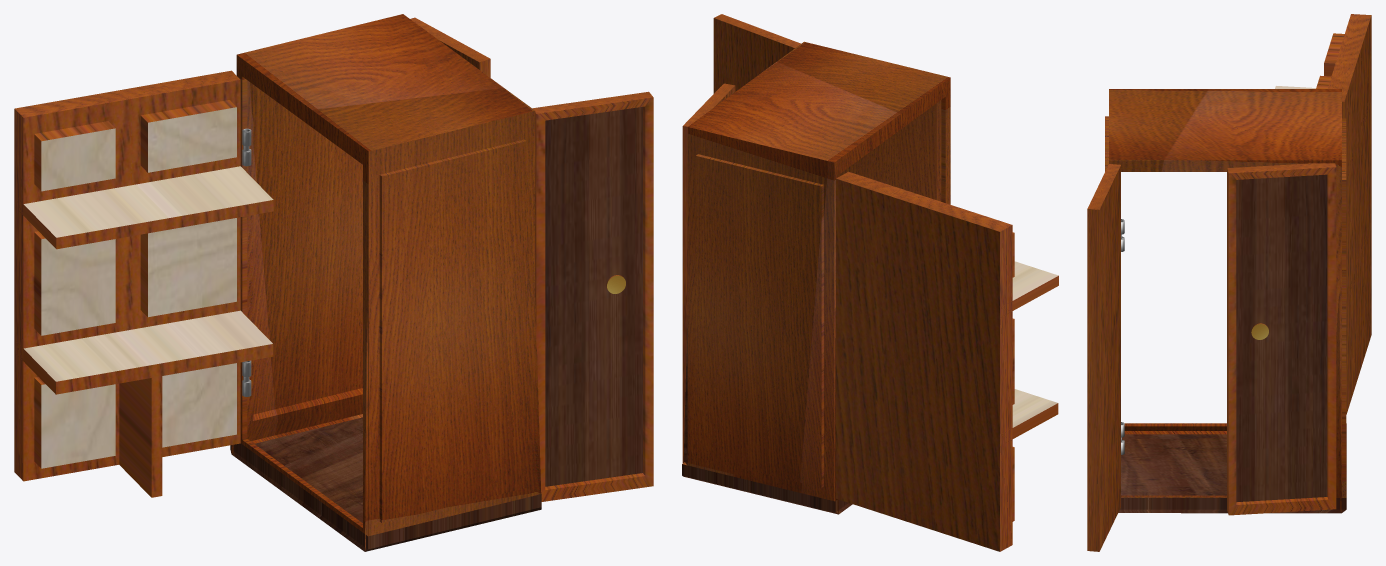
Rendered from Armario_Fundo_Falso.fbx.
3 views of the same model, side by side, from view 1: azimuth 30°, elevation 25°; view 2: azimuth 150°, elevation 25°; view 3: azimuth 270°, elevation 25° (orthographic). The views are drawn at different scales.
Parts seen in each view (by area): view 1: Cube, Cube.001, Cone.001, Cone.002; view 2: Cube, Cube.001, Cone.001, Cone.002; view 3: Cone.002, Cube, Cone.001, Cube.001.
Boxes of the visible parts, x1,y1,x2,y2 form: Cube: (230, 14, 541, 551); Cube.001: (14, 70, 273, 497); Cone.001: (532, 91, 653, 501); Cone.002: (410, 17, 490, 77); Cube: (682, 41, 950, 514); Cube.001: (836, 171, 1058, 551); Cone.001: (713, 14, 800, 93); Cone.002: (682, 83, 735, 463); Cone.002: (1227, 163, 1336, 515); Cube: (1105, 89, 1346, 513); Cone.001: (1087, 164, 1120, 551); Cube.001: (1275, 14, 1371, 414).
Size of the model in its own units: 1000 by 773 by 568.
16 materials, 16 textured.
